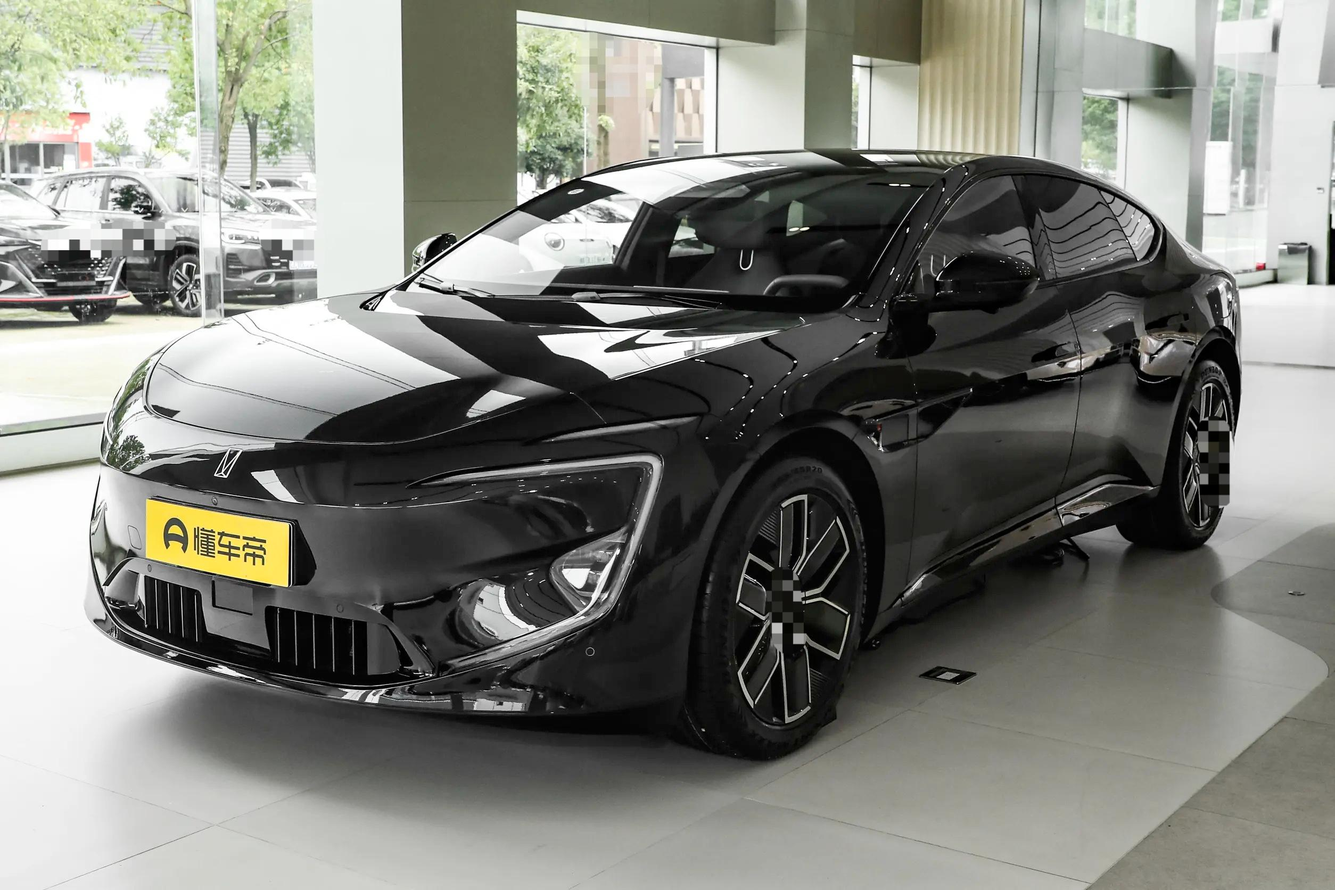AVATR: (214, 448, 243, 478)
